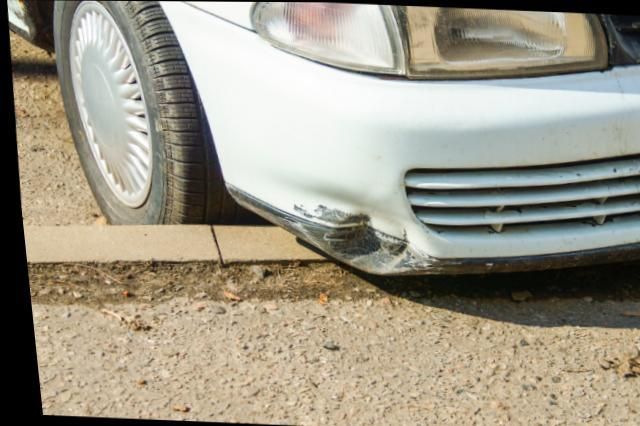dent: (289, 177, 424, 273)
